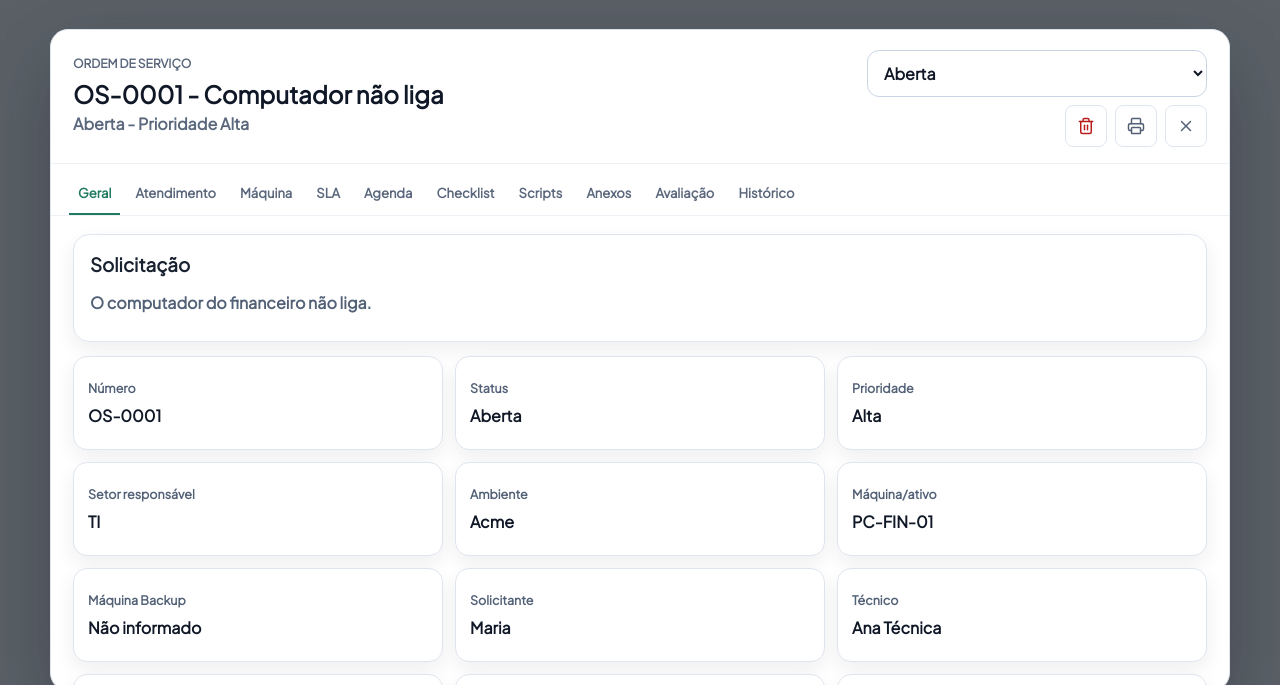
Test: ServiceOrderDetailsModal - atendimento › serviços realizados › fecha as sugestões ao sair do campo e avisa quando não há serviços
Click the button "Atendimento" at (176, 195), box [126, 174, 225, 215]
(page scrolled)
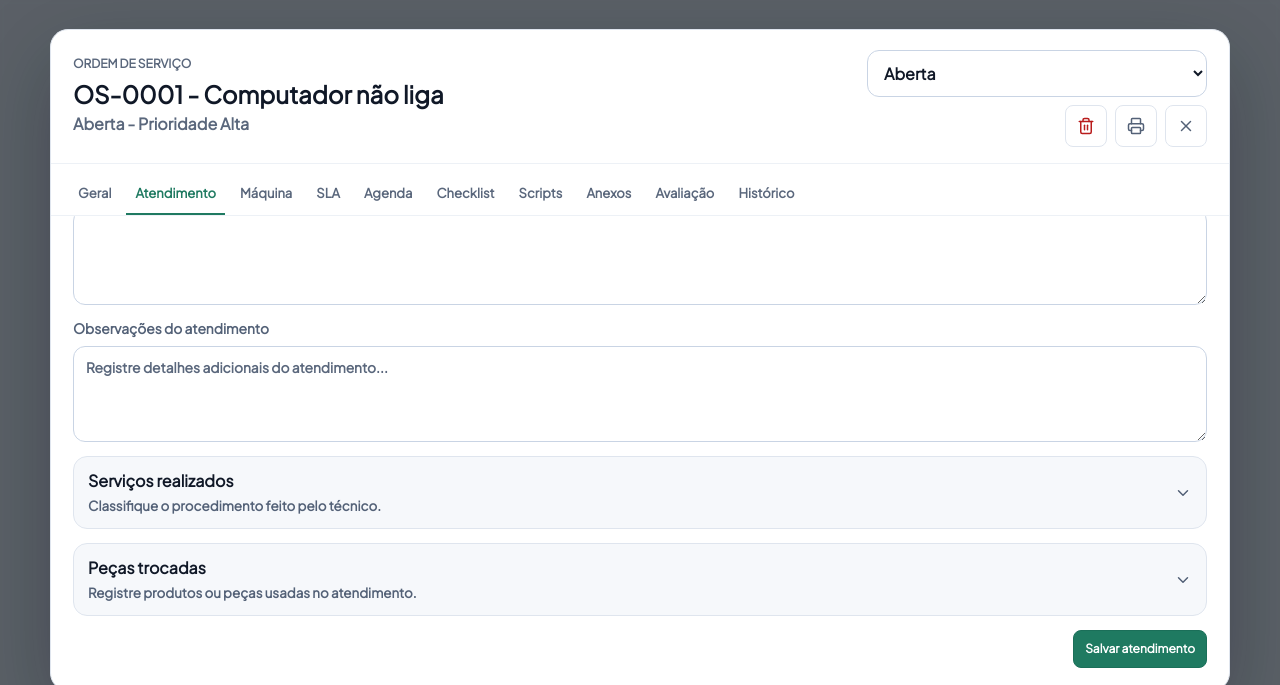
Click the button "Serviços realizados" at (161, 481), box [74, 458, 1206, 528]
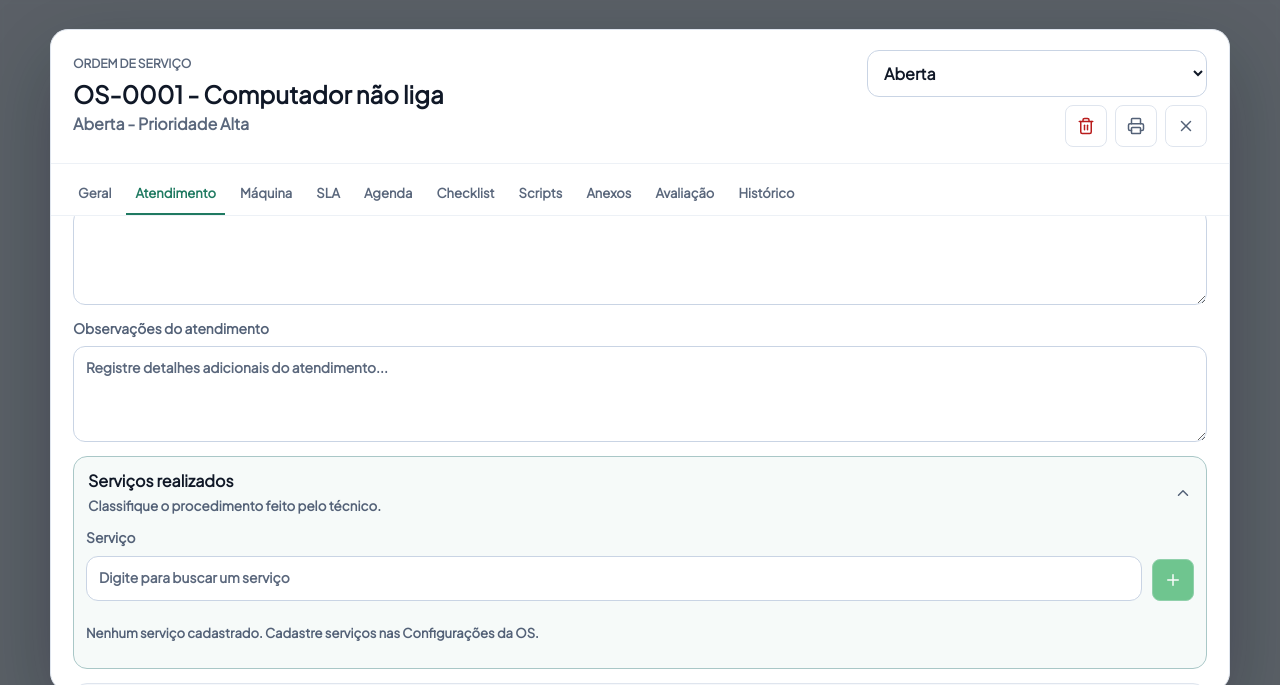
Expected: the text "Nenhum serviço cadastrado. Cadastre serviços nas Configurações da OS." is shown, [86, 625, 539, 641]
Type "x" into the field with placeholder "Digite para buscar um serviço" at (614, 578), box [86, 556, 1142, 601]
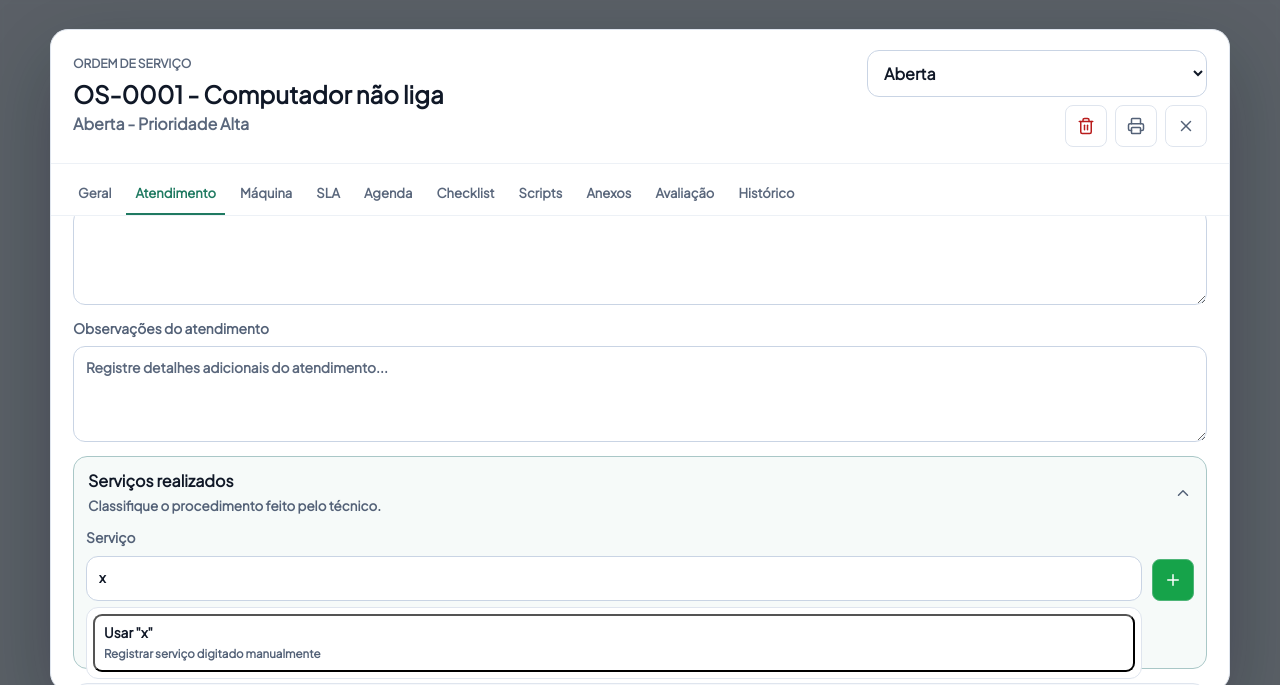
Expected: the list is shown, [86, 607, 1142, 679]
Leave the field with placeholder "Digite para buscar um serviço", box [86, 556, 1142, 601]
Wait 130 ms
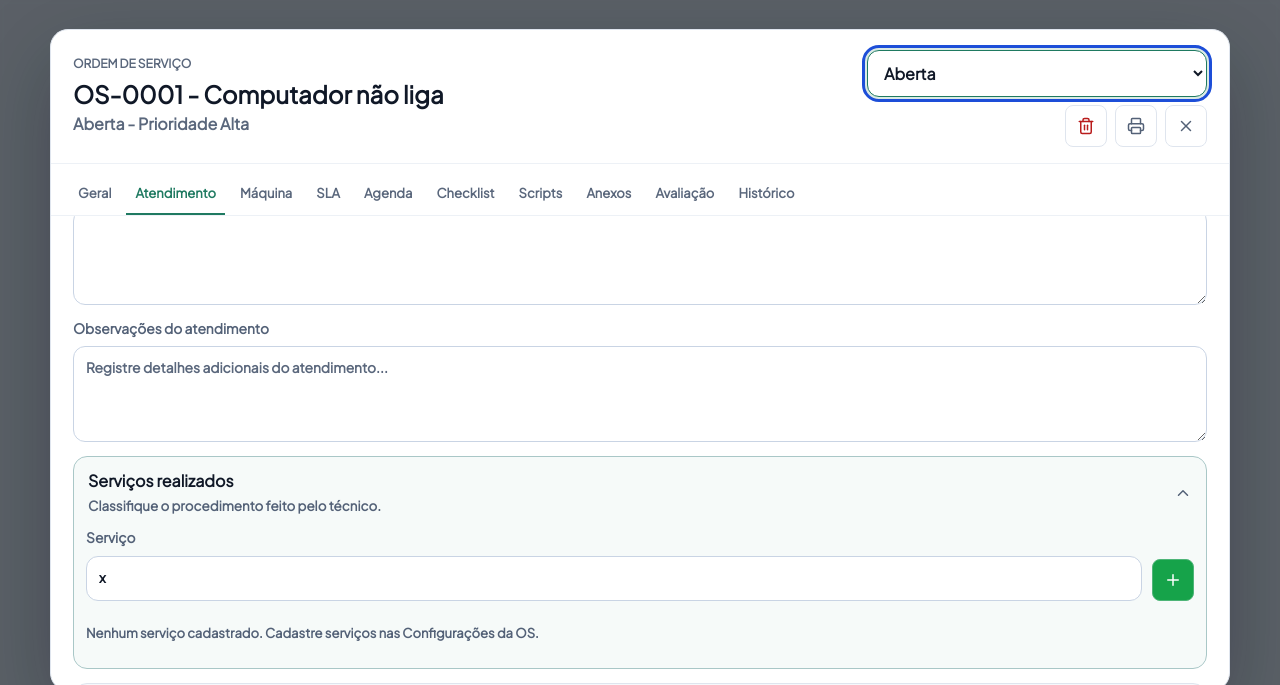
Expected: the list is gone
Click the button "Serviços realizados" at (161, 481), box [74, 458, 1206, 528]
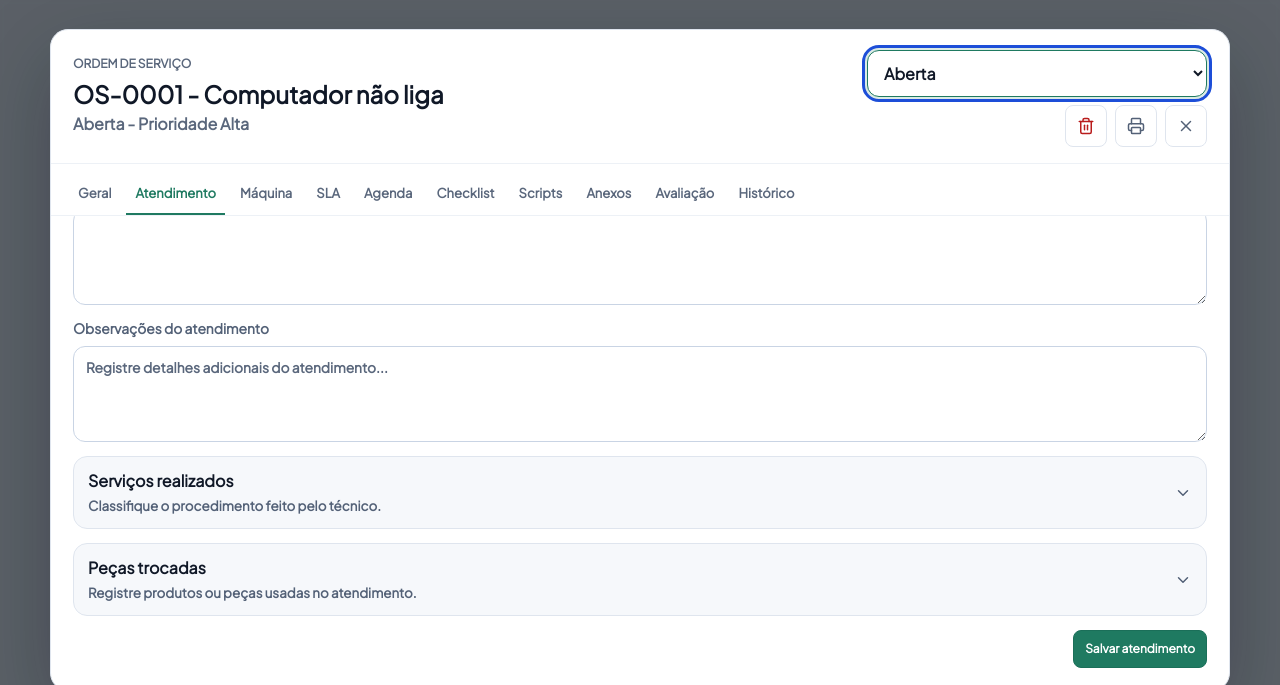
Expected: the field with placeholder "Digite para buscar um serviço" is gone
